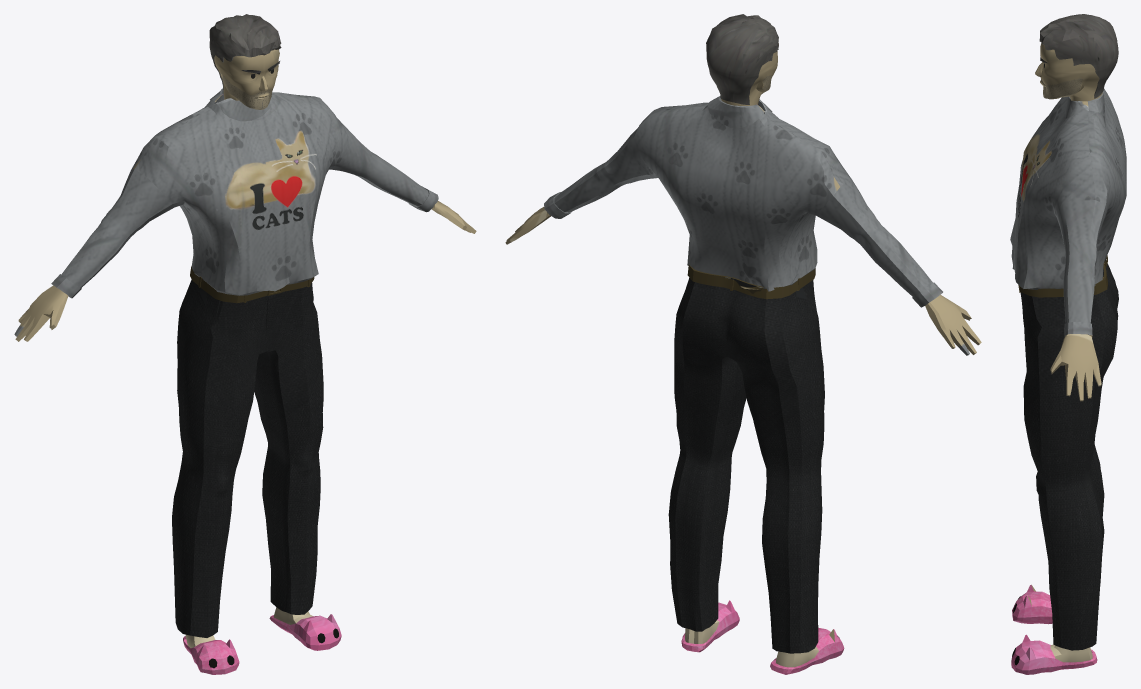
The model's file is BlendCuerpoNestor(L).fbx.
The picture shows the model from 3 angles, left to right: view 1: azimuth 30°, elevation 25°; view 2: azimuth 150°, elevation 25°; view 3: azimuth 270°, elevation 25°; orthographic projection. The views are drawn at different scales.
Parts seen in each view (by area): view 1: RopaNestor, CabezaNestor, Zapatillas; view 2: RopaNestor, CabezaNestor, Zapatillas; view 3: RopaNestor, CabezaNestor, Zapatillas.
Part boxes in pixels (<box>): RopaNestor: <box>14,88,476,637</box>; CabezaNestor: <box>209,14,281,109</box>; Zapatillas: <box>183,607,341,674</box>; RopaNestor: <box>505,96,981,653</box>; CabezaNestor: <box>706,14,778,105</box>; Zapatillas: <box>681,600,844,674</box>; RopaNestor: <box>1010,88,1126,650</box>; CabezaNestor: <box>1035,14,1118,101</box>; Zapatillas: <box>1011,585,1097,674</box>.
Size of the model in its own units: 146 by 190 by 32.
3 materials, 3 textured.
